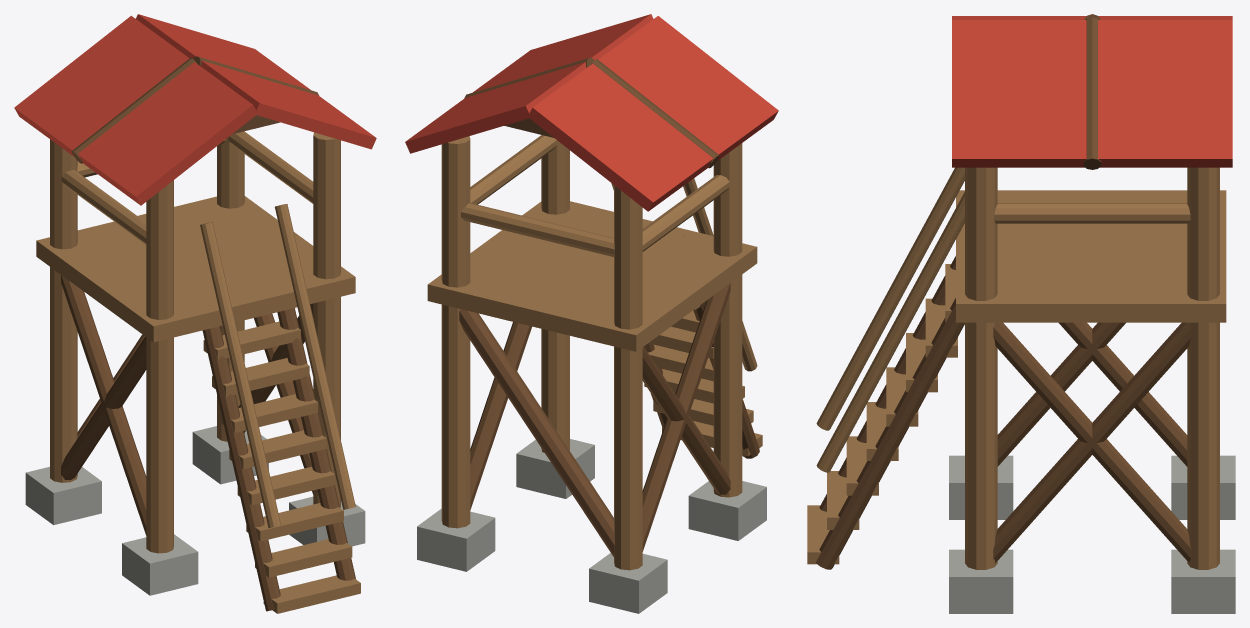
Rendered from field-watchtower.glb.
The picture shows the model from 3 angles, left to right: view 1: azimuth 30°, elevation 25°; view 2: azimuth 150°, elevation 25°; view 3: azimuth 270°, elevation 25°; orthographic projection. The views are drawn at different scales.
Visible parts, largest first — view 1: sloped_roof, tower_leg, sloped_roof.001, tower_leg.001, tower_leg.002, deck_plank, side_diagonal, stair_stringer, stair_handrail.001, stair_handrail, stone_foot, stone_foot.001 (+24 smaller); view 2: sloped_roof, tower_leg.003, tower_leg.001, sloped_roof.001, tower_leg, deck_plank.006, back_brace, tower_leg.002, side_diagonal.001, stone_foot.003, stone_foot.001, stone_foot (+19 smaller); view 3: sloped_roof.001, tower_leg.003, tower_leg.002, side_diagonal.003, side_diagonal.002, stair_stringer.001, stair_handrail.001, stair_handrail, deck_plank.002, deck_plank.003, deck_plank.004, deck_plank.005 (+20 smaller).
Boxes of the visible parts, x1=… form: sloped_roof: x1=14, y1=15, x2=257, y2=205; tower_leg: x1=146, y1=180, x2=173, y2=553; sloped_roof.001: x1=136, y1=14, x2=376, y2=149; tower_leg.001: x1=50, y1=139, x2=77, y2=482; tower_leg.002: x1=313, y1=132, x2=340, y2=507; deck_plank: x1=136, y1=266, x2=355, y2=342; side_diagonal: x1=61, y1=275, x2=146, y2=535; stair_stringer: x1=202, y1=305, x2=280, y2=611; stair_handrail.001: x1=275, y1=204, x2=355, y2=509; stair_handrail: x1=200, y1=222, x2=280, y2=527; stone_foot: x1=122, y1=534, x2=198, y2=595; stone_foot.001: x1=25, y1=466, x2=101, y2=525; sloped_roof: x1=527, y1=16, x2=778, y2=211; tower_leg.003: x1=441, y1=136, x2=470, y2=528; tower_leg.001: x1=614, y1=185, x2=642, y2=570; sloped_roof.001: x1=405, y1=14, x2=653, y2=153; tower_leg: x1=713, y1=143, x2=742, y2=497; deck_plank.006: x1=427, y1=274, x2=653, y2=351; back_brace: x1=459, y1=309, x2=614, y2=557; tower_leg.002: x1=541, y1=141, x2=569, y2=452; side_diagonal.001: x1=642, y1=283, x2=730, y2=551; stone_foot.003: x1=417, y1=508, x2=495, y2=571; stone_foot.001: x1=589, y1=553, x2=667, y2=613; stone_foot: x1=688, y1=481, x2=766, y2=540; sloped_roof.001: x1=952, y1=20, x2=1232, y2=167; tower_leg.003: x1=1187, y1=167, x2=1219, y2=569; tower_leg.002: x1=965, y1=167, x2=997, y2=569; side_diagonal.003: x1=993, y1=322, x2=1191, y2=562; side_diagonal.002: x1=993, y1=322, x2=1191, y2=562; stair_stringer.001: x1=815, y1=298, x2=964, y2=569; stair_handrail.001: x1=816, y1=192, x2=964, y2=472; stair_handrail: x1=816, y1=167, x2=964, y2=430; deck_plank.002: x1=1033, y1=190, x2=1071, y2=322; deck_plank.003: x1=1072, y1=190, x2=1110, y2=322; deck_plank.004: x1=1110, y1=190, x2=1148, y2=322; deck_plank.005: x1=1149, y1=190, x2=1187, y2=322.
Size of the model in its own units: 0.5547 by 1.01 by 0.7325.
